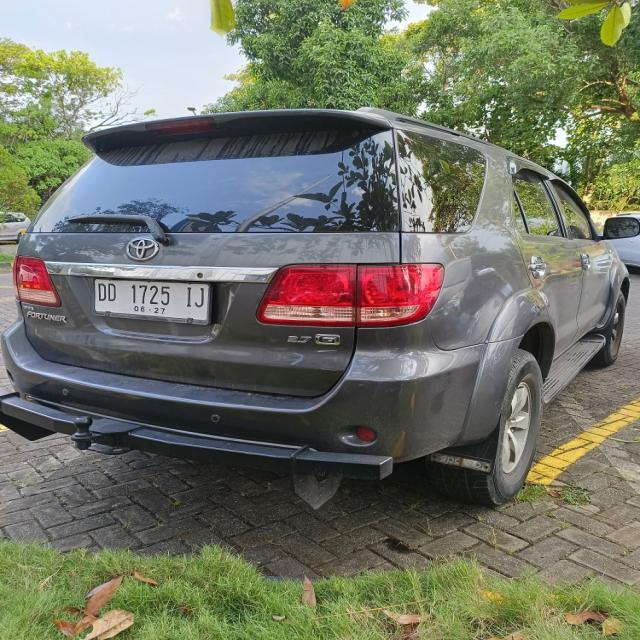plates: (94, 277, 215, 323)
